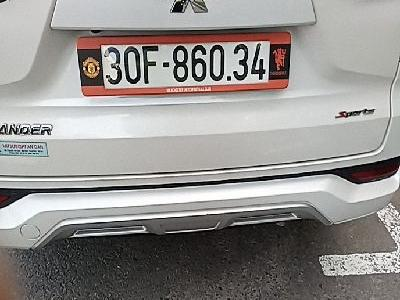lisence: (74, 29, 295, 97)
